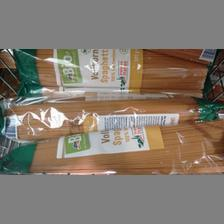Nudeln: (0, 121, 220, 171), (1, 96, 223, 138), (11, 47, 209, 89)
